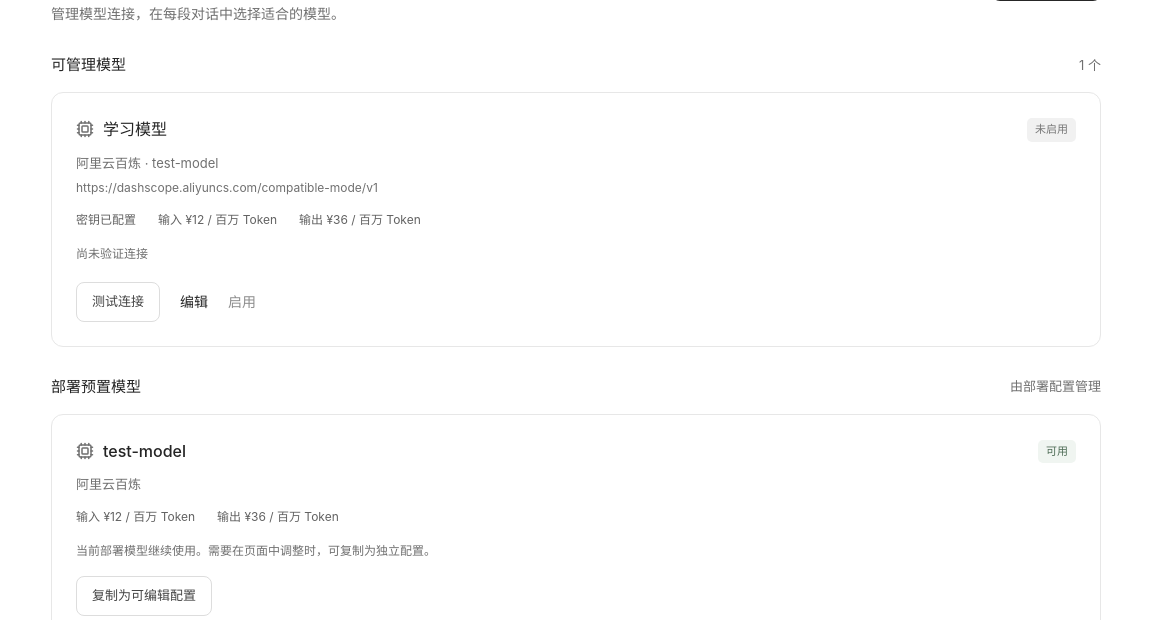
it: copies a preset without exposing or submitting its existing secret and does not automatically test
Click the button "复制为可编辑配置": point(144, 596) [76,576,212,616]
(page scrolled)
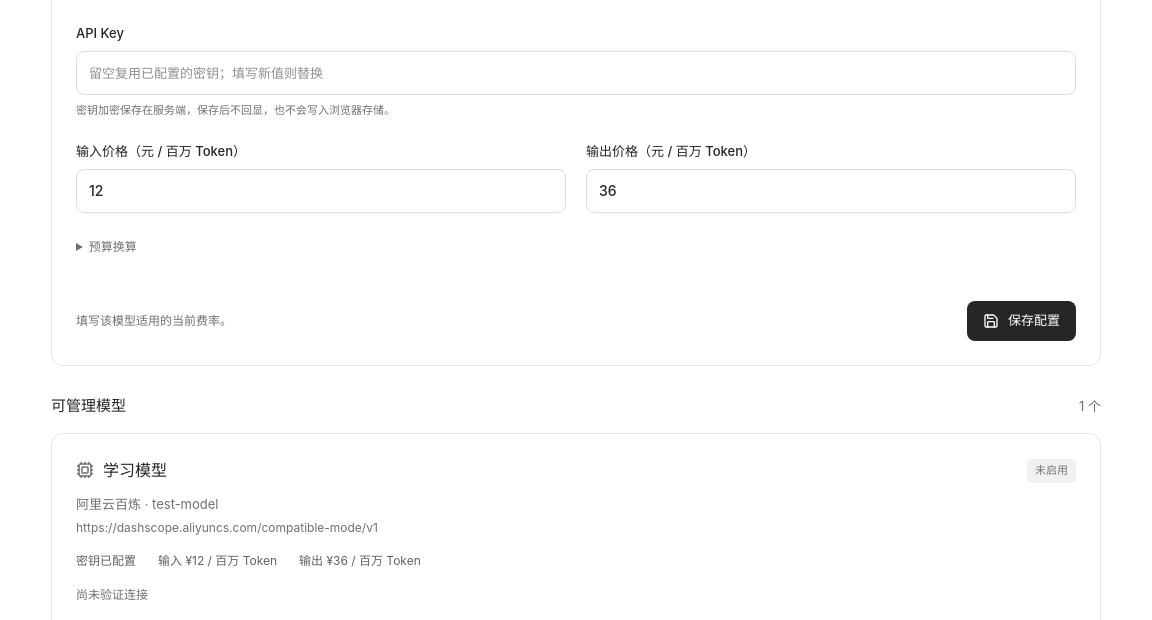
Expected: the password field labelled "API Key" is empty, [76,50,1076,95]
Expected: the number field labelled "输入价格（元 / 百万 Token）" holds "12", [76,168,566,213]
Click the button "保存配置": point(1022, 321) [967,301,1076,341]
(page scrolled)
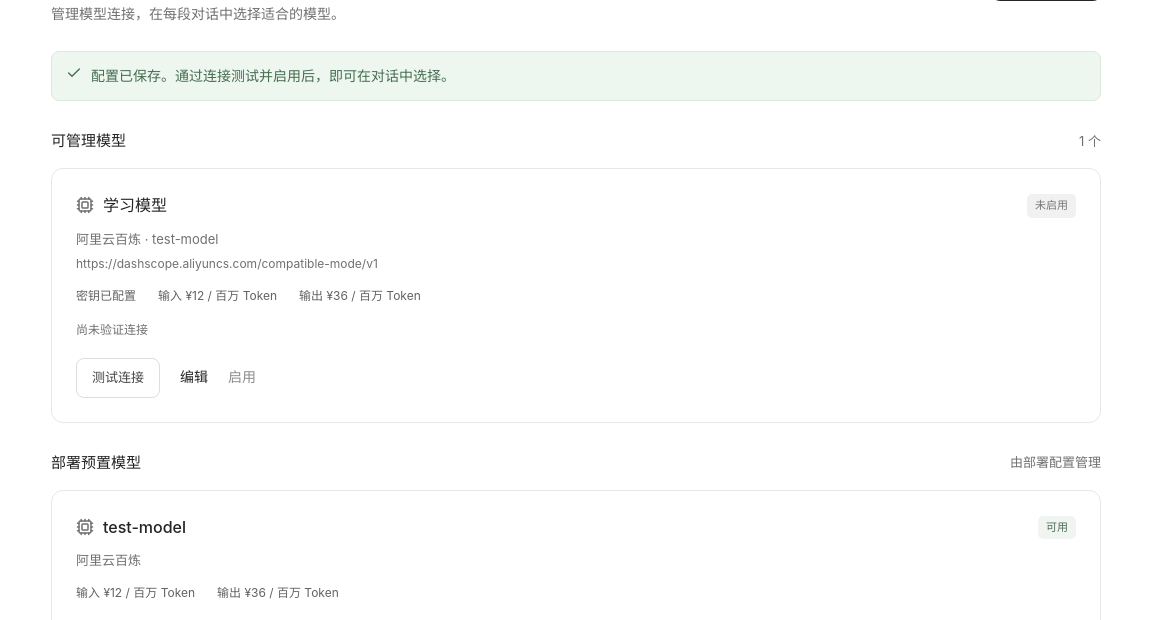
Expected: the message shows "通过连接测试并启用", [91,67,455,84]
